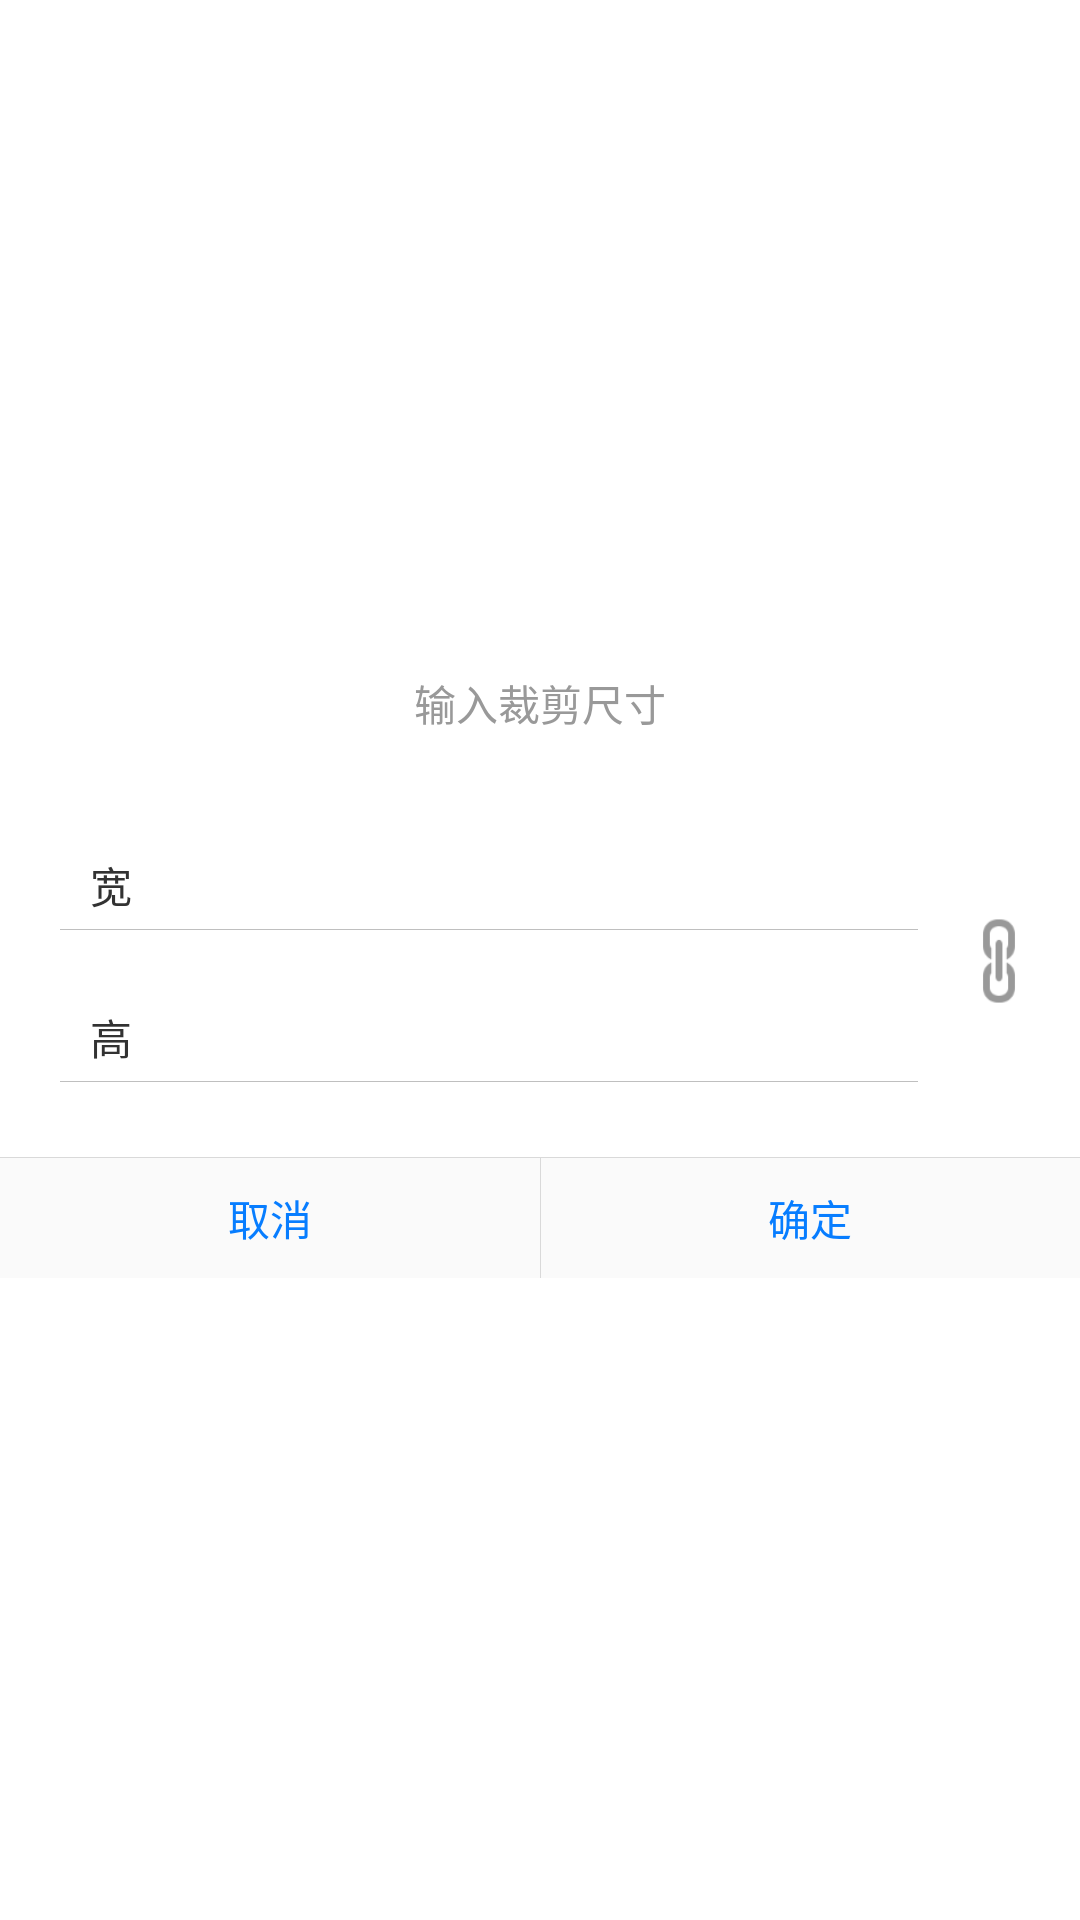

Where to tap for icons on this 1080×1920 app screen, as (x=x, y=y):
lock off: (x=999, y=961)
